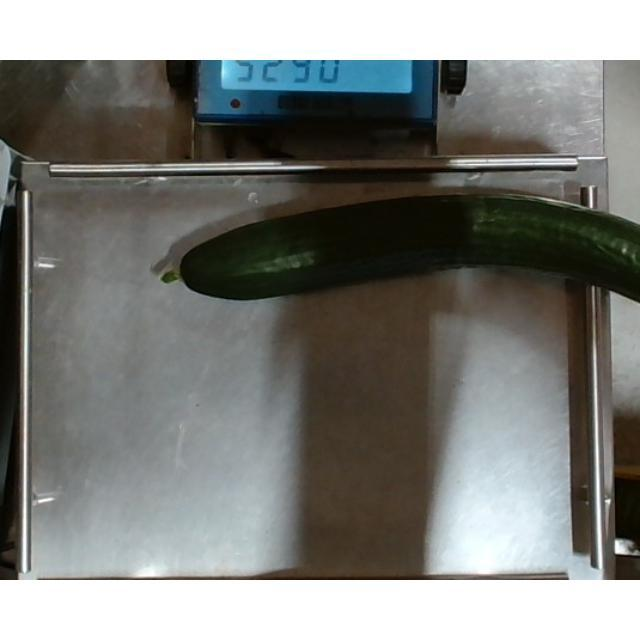cucumber: (142, 196, 640, 306)
